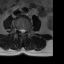CCS_normal: (21, 27, 23, 35)
LFS_normal: (25, 28, 27, 34)
LLS_normal: (23, 28, 25, 34)
RFS_normal: (17, 26, 19, 32)
RLS_normal: (19, 27, 21, 33)
